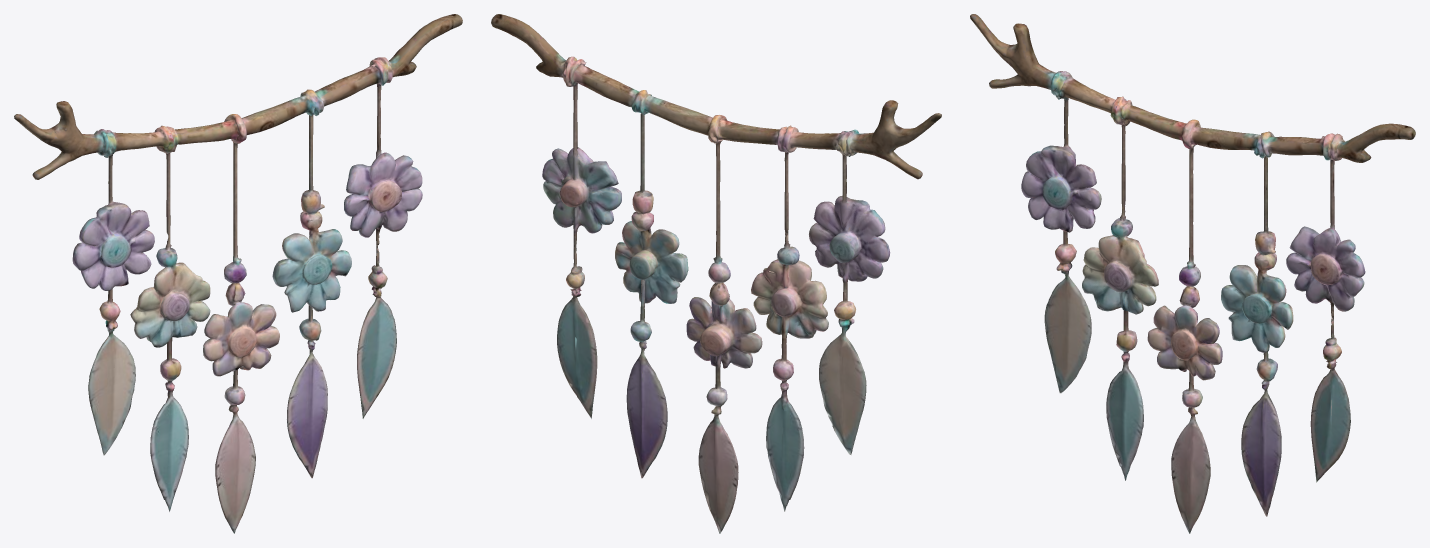
The picture shows the model from 3 angles, left to right: view 1: azimuth 30°, elevation 25°; view 2: azimuth 150°, elevation 25°; view 3: azimuth 330°, elevation 25°; orthographic projection.
Bounding box in the file's own units: 1.97 × 1.99 × 0.1341.
Materials: 1 (1 with a texture image).
